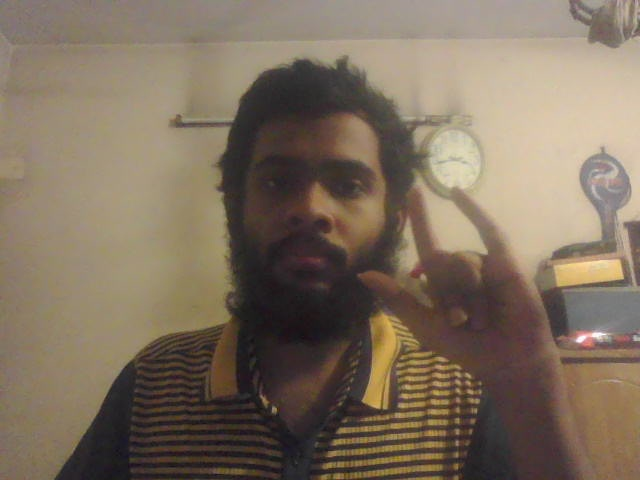I Love You: (356, 186, 564, 371)
